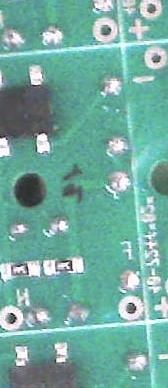chip-resistor: (43, 255, 87, 278), (0, 260, 40, 283)
ic: (0, 64, 57, 161)
